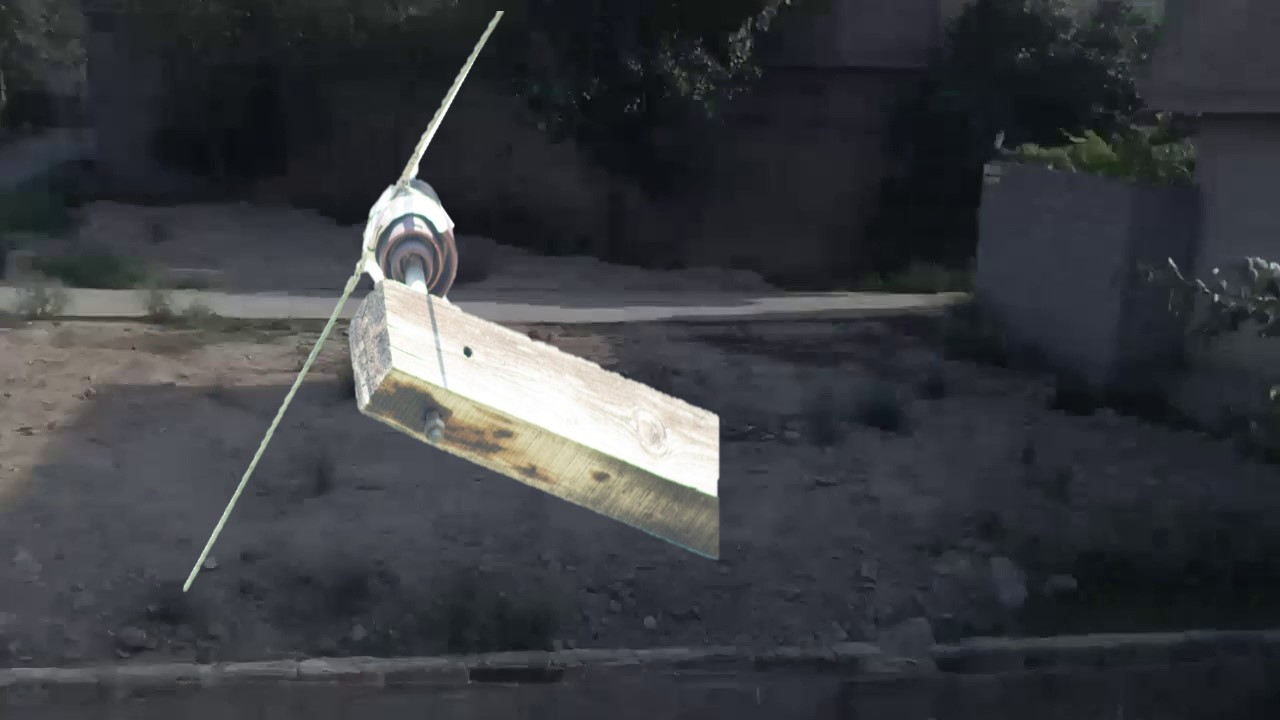defect_pin: (354, 167, 463, 297)
